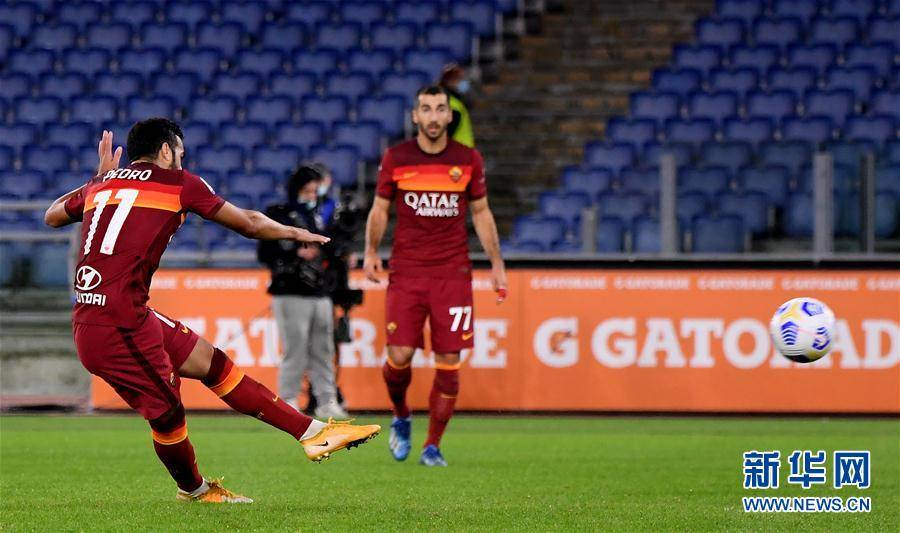ball: (771, 296, 837, 362)
